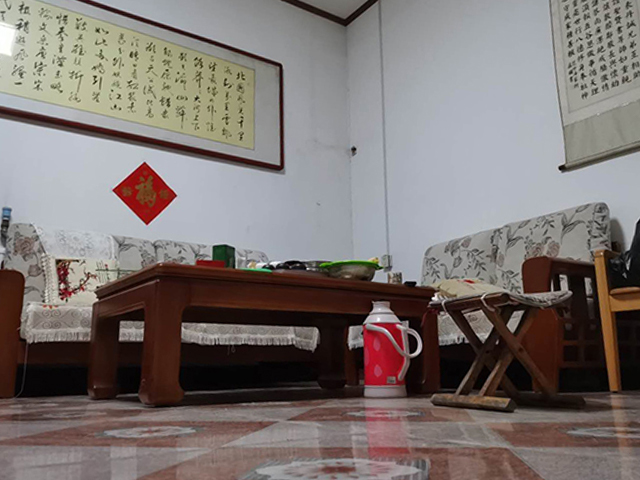sofa: (413, 201, 616, 395), (1, 215, 158, 399)
stool: (427, 288, 586, 414)
table: (85, 260, 445, 407)
